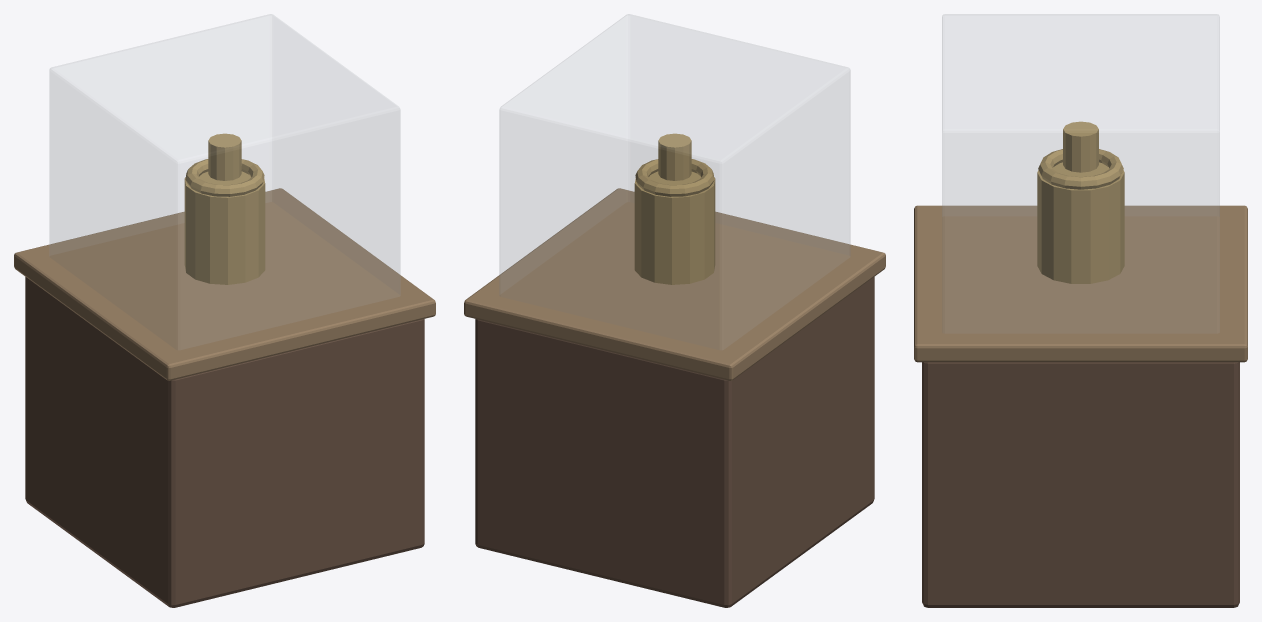
The picture shows the model from 3 angles, left to right: view 1: azimuth 30°, elevation 25°; view 2: azimuth 150°, elevation 25°; view 3: azimuth 270°, elevation 25°; orthographic projection. The views are drawn at different scales.
Visible parts, largest first — view 1: displayCase; view 2: displayCase; view 3: displayCase.
Part boxes in pixels (bbox=[...]): displayCase: bbox=[14, 14, 435, 607]; displayCase: bbox=[464, 14, 885, 607]; displayCase: bbox=[914, 14, 1247, 607].
Bounding box in the file's own units: 0.84 × 1.31 × 0.84.
